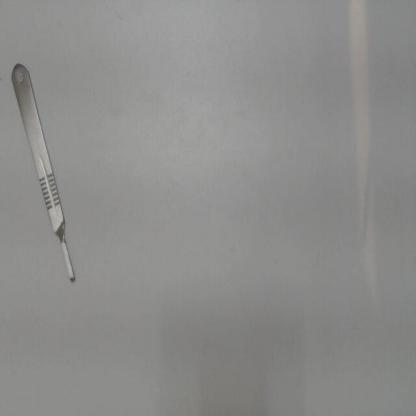No.4 BP Handle: (8, 54, 80, 287)
